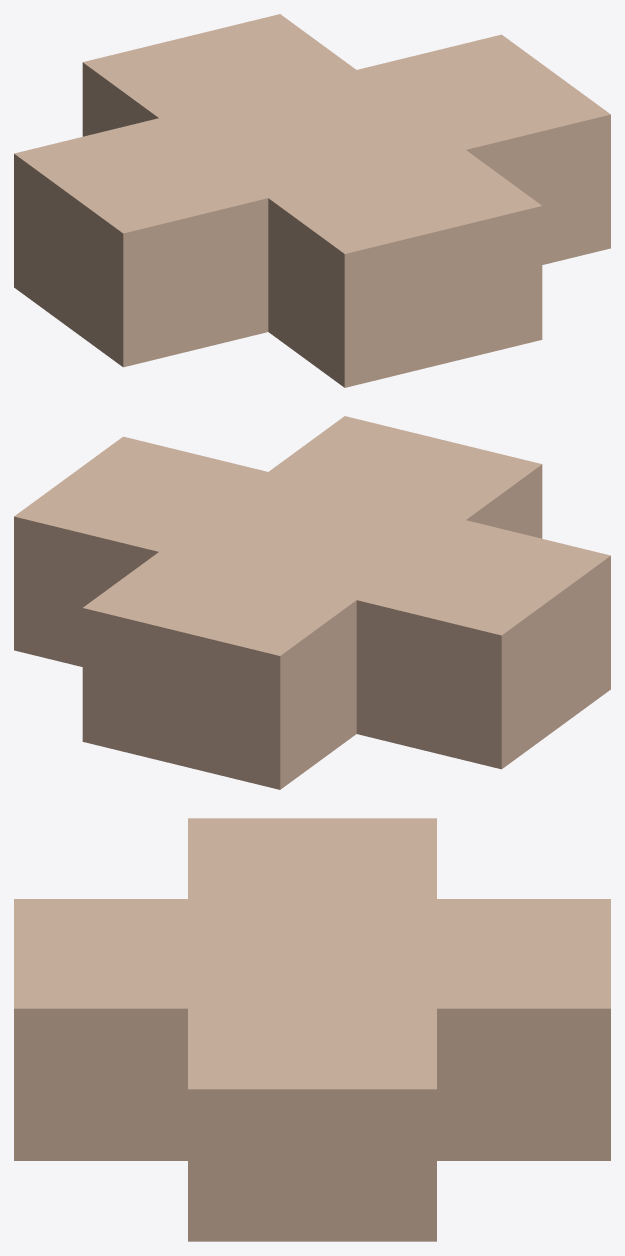
File: SM_Shape_Cross__02.fbx
3 renders of one model, top to bottom at view 1: azimuth 30°, elevation 25°; view 2: azimuth 150°, elevation 25°; view 3: azimuth 270°, elevation 25°, orthographic. The views are drawn at different scales.
Visible parts, largest first — view 1: SM_Shape_Cross__02; view 2: SM_Shape_Cross__02; view 3: SM_Shape_Cross__02.
Boxes of the visible parts, box(x1,y1,x2,y2) form: SM_Shape_Cross__02: box(14, 14, 610, 387); SM_Shape_Cross__02: box(14, 416, 610, 789); SM_Shape_Cross__02: box(14, 818, 610, 1241).
Size of the model in its own units: 7.55 by 1.98 by 7.03.
